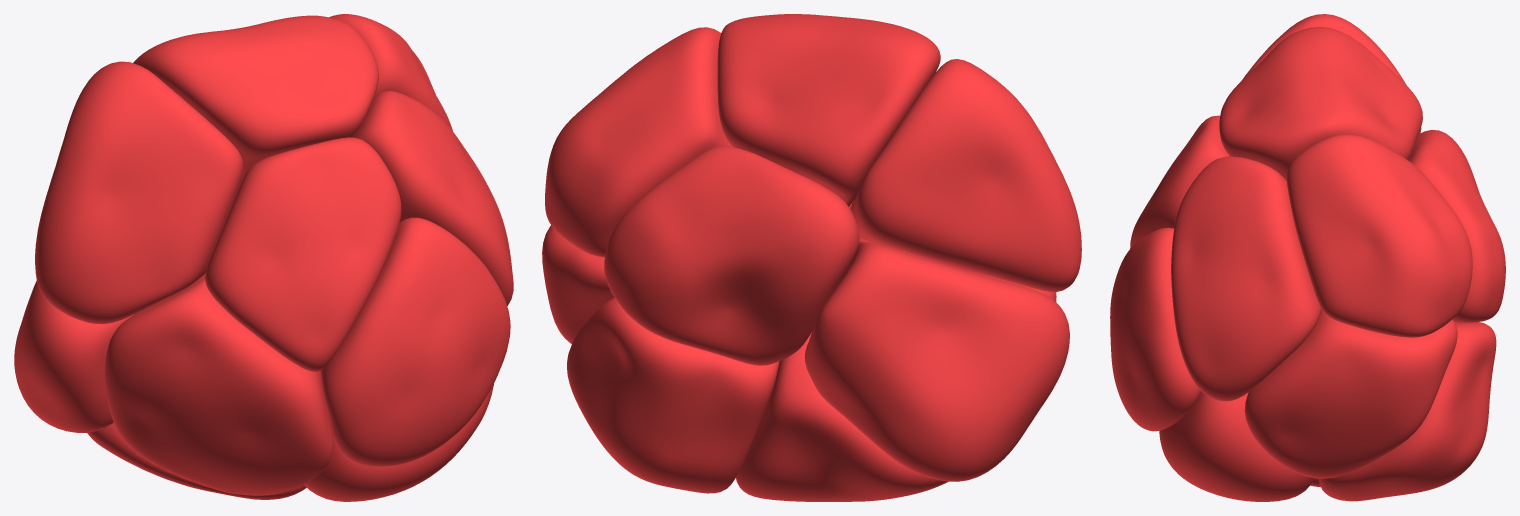
3 renders of one model, left to right at view 1: azimuth 30°, elevation 25°; view 2: azimuth 150°, elevation 25°; view 3: azimuth 270°, elevation 25°, orthographic. The views are drawn at different scales.
Parts seen in each view (by area): view 1: a2.002, a2.009, a2.003, a2.008, a2.013, a2.004, a2.001, a2.005, a2.010, a2.012; view 2: a2.001, a2.011, a2.002, a2.013, a2.007, a2.010, a2.012, a2.006; view 3: a2.010, a2.004, a2.006, a2.013, a2.007, a2.003, a2.005, a2.011, a2.008, a2.002.
Boxes of the visible parts, box(x1,y1,x2,y2) form: a2.002: box(35, 61, 243, 324); a2.009: box(104, 273, 332, 495); a2.003: box(320, 217, 510, 466); a2.008: box(205, 137, 401, 371); a2.013: box(133, 15, 378, 178); a2.004: box(352, 90, 513, 305); a2.001: box(14, 280, 134, 432); a2.005: box(304, 370, 493, 501); a2.010: box(329, 14, 452, 130); a2.012: box(87, 423, 306, 499); a2.001: box(804, 241, 1069, 481); a2.011: box(604, 146, 859, 365); a2.002: box(850, 59, 1081, 291); a2.013: box(717, 14, 940, 206); a2.007: box(567, 297, 779, 493); a2.010: box(545, 27, 732, 257); a2.012: box(736, 332, 948, 501); a2.006: box(542, 225, 614, 344); a2.010: box(1286, 134, 1472, 337); a2.004: box(1171, 156, 1321, 401); a2.006: box(1244, 309, 1457, 478); a2.013: box(1219, 27, 1422, 180); a2.007: box(1319, 322, 1496, 501); a2.003: box(1110, 227, 1201, 431); a2.005: box(1159, 391, 1314, 501); a2.011: box(1408, 130, 1505, 322); a2.008: box(1130, 115, 1229, 248); a2.002: box(1242, 14, 1421, 134).
Bounding box in the file's own units: 420 × 397 × 352.
